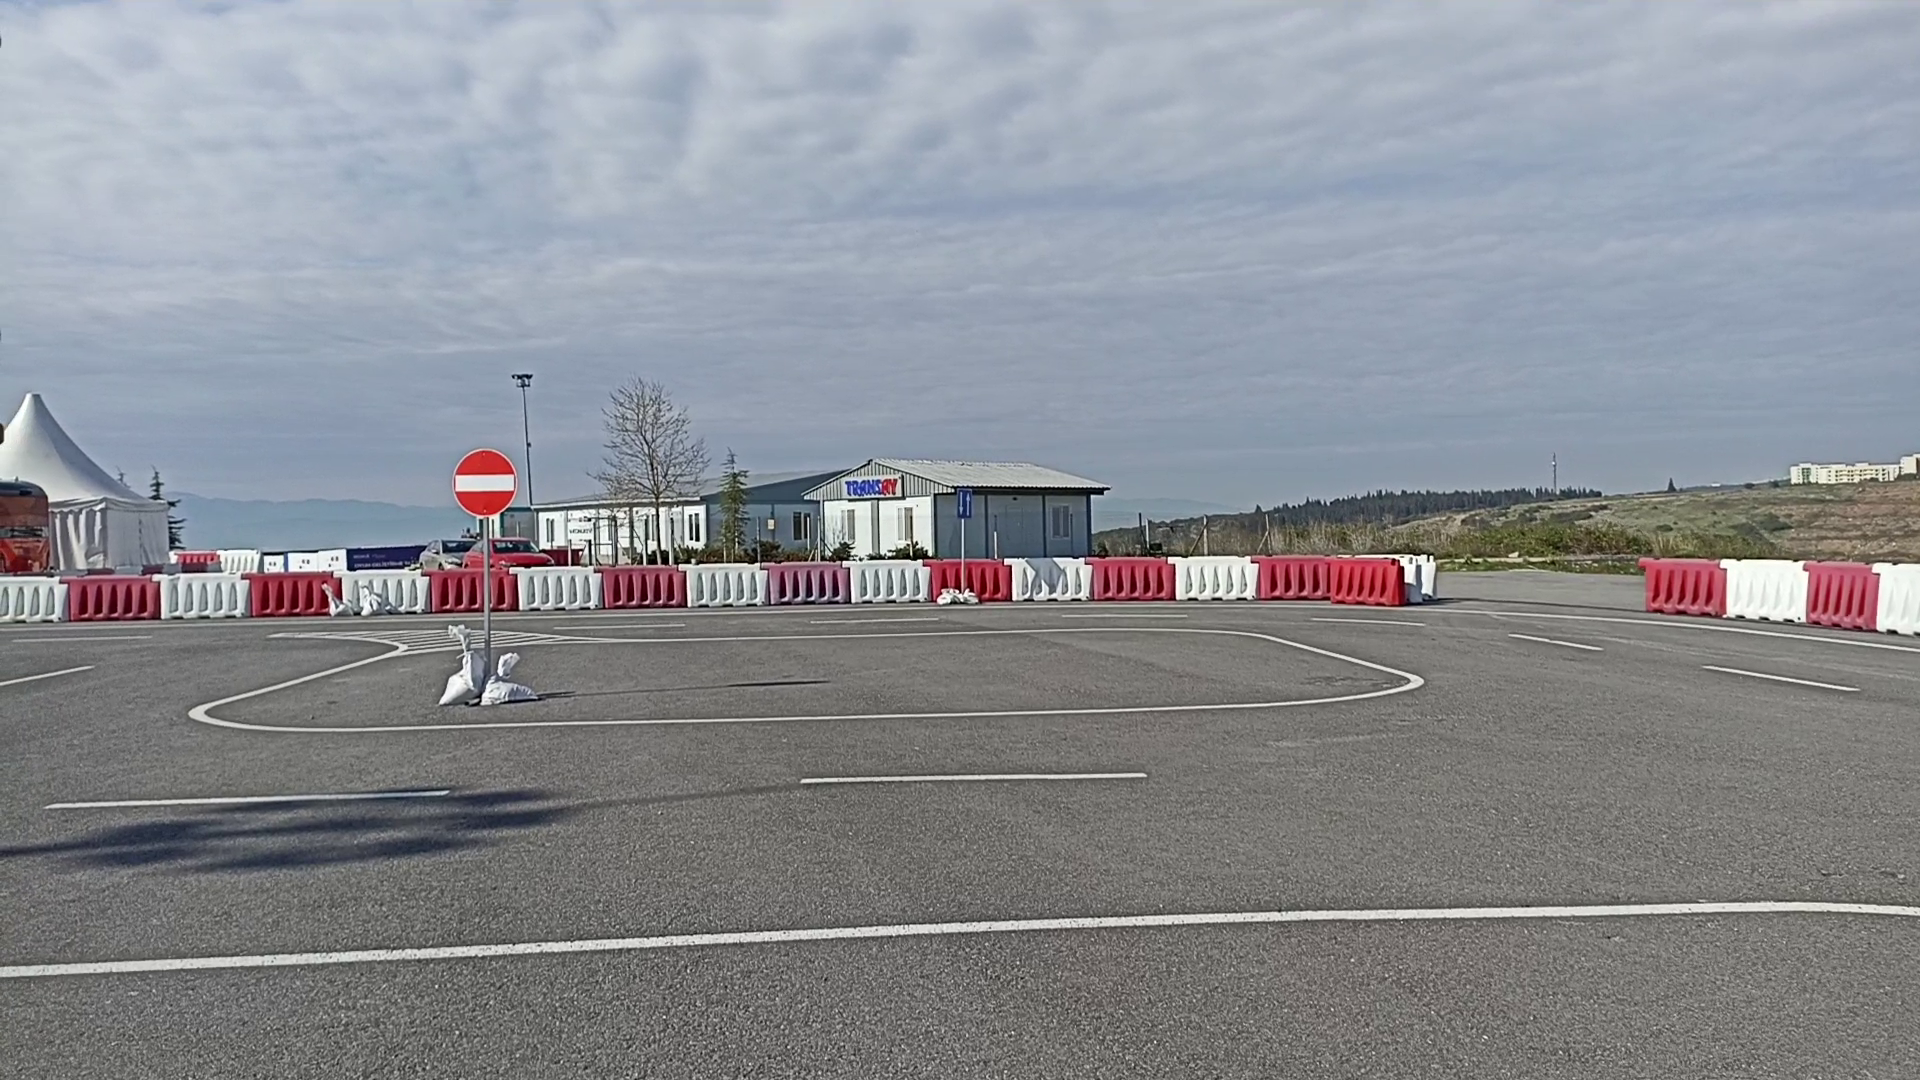noentryway: (448, 447, 520, 521)
